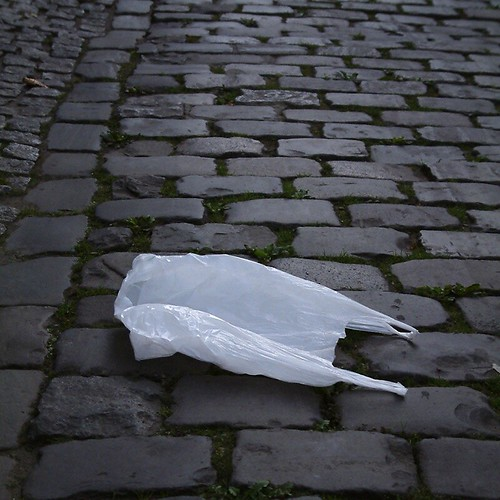plastic bag: (113, 239, 418, 391)
